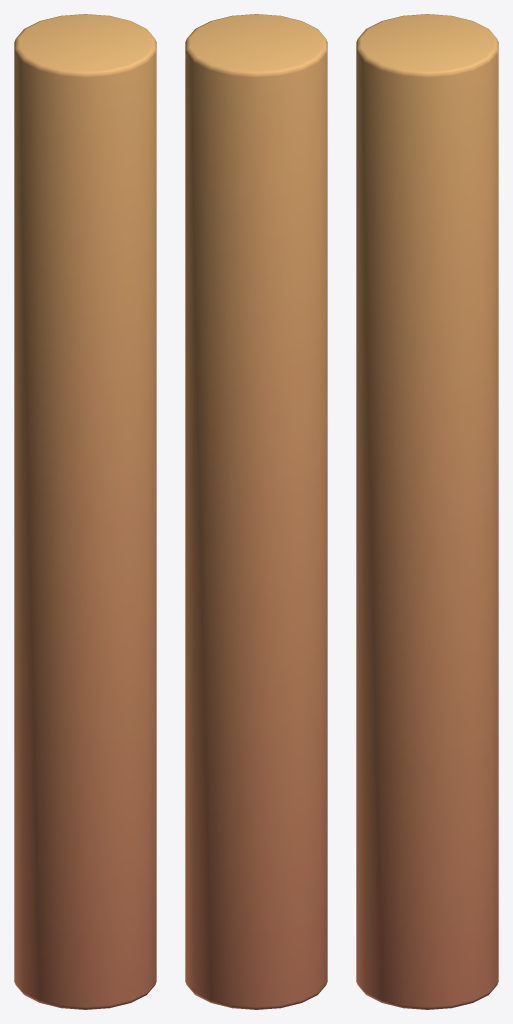
Rendered from stool_leg.fbx.
The picture shows the model from 3 angles, left to right: view 1: azimuth 30°, elevation 25°; view 2: azimuth 150°, elevation 25°; view 3: azimuth 270°, elevation 25°; orthographic projection.
Parts seen in each view (by area): view 1: stool_leg; view 2: stool_leg; view 3: stool_leg.
Boxes of the visible parts, x1,y1,x2,y2 form: stool_leg: (14, 14, 156, 1009); stool_leg: (185, 14, 327, 1009); stool_leg: (356, 14, 498, 1009).
Size of the model in its own units: 15 by 108 by 14.77.
Materials: 1 (1 with a texture image).
